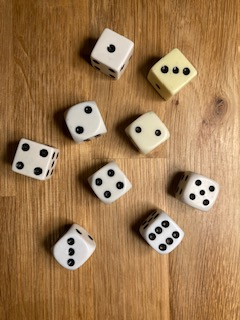five: (173, 170, 222, 213)
four: (86, 160, 133, 205), (10, 138, 59, 181)
one: (89, 27, 135, 80)
six: (137, 208, 186, 256)
three: (147, 47, 199, 102), (51, 222, 97, 271)
two: (124, 111, 172, 156), (63, 101, 108, 144)
